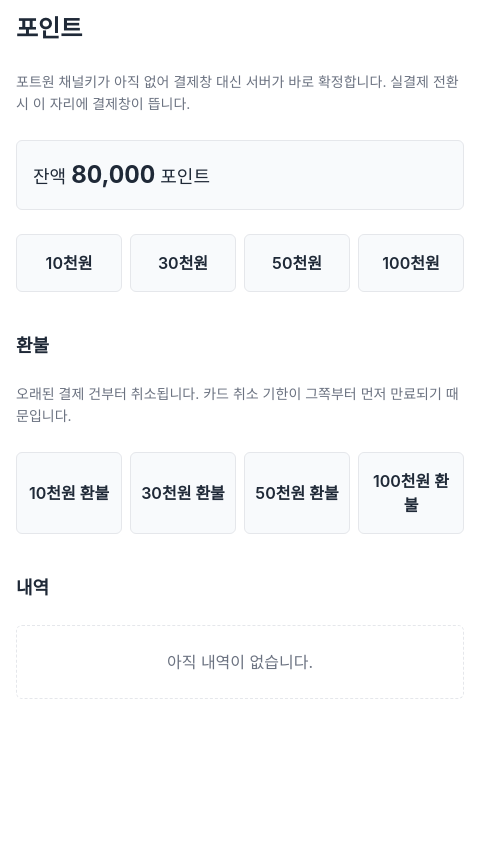
Test: 포인트 화면 — 환불 (#29) › should show which payment each refunded amount came from
Step 1. Click the button "50천원 환불" → [297, 493], box [244,452,350,534]
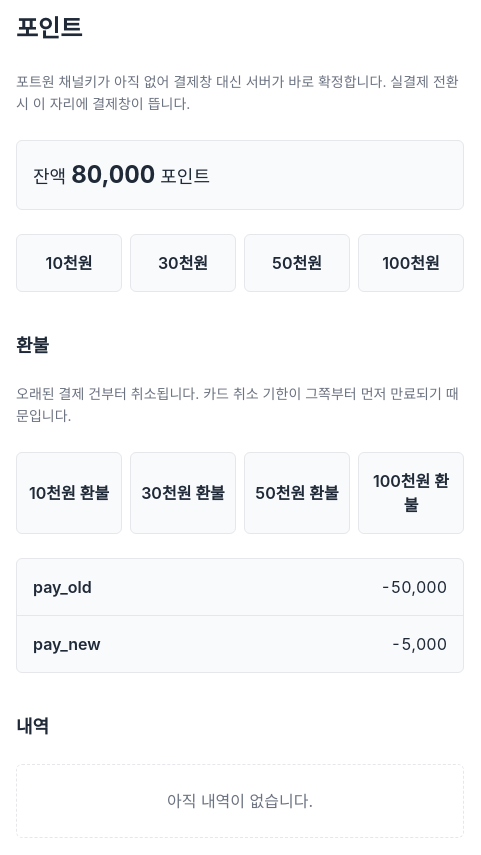
Expected: the text "pay_old" is shown, [33,577,92,597]
Expected: the text "pay_new" is shown, [33,634,101,654]
Expected: the text "-50,000" is shown, [380,575,447,599]
